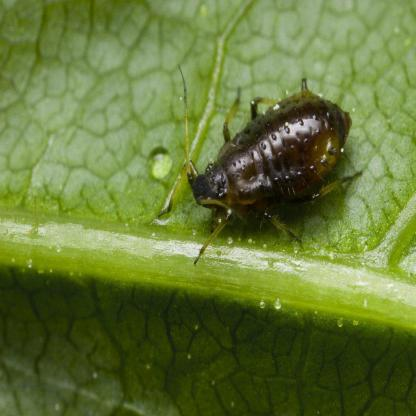aphid: (161, 68, 368, 264)
